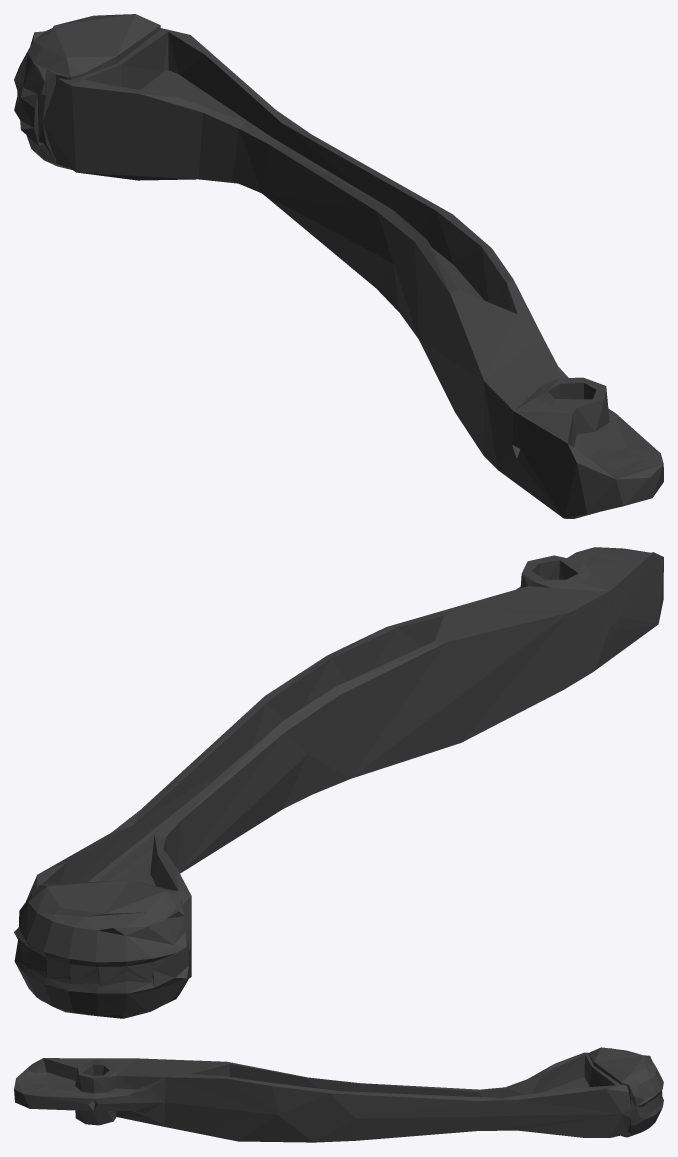
File: rear_left_lower_leg_compressed.dae
3 views of the same model, one above another, from view 1: azimuth 30°, elevation 25°; view 2: azimuth 150°, elevation 25°; view 3: azimuth 270°, elevation 25° (orthographic). The views are drawn at different scales.
Visible parts, largest first — view 1: node; view 2: node; view 3: node.
Part boxes in pixels (<box>): node: <box>14,14,663,518</box>; node: <box>14,547,663,1018</box>; node: <box>14,1047,663,1142</box>.
Bounding box in the file's own units: 0.0751 × 0.0459 × 0.4237.
Materials: 1 (1 with a texture image).
